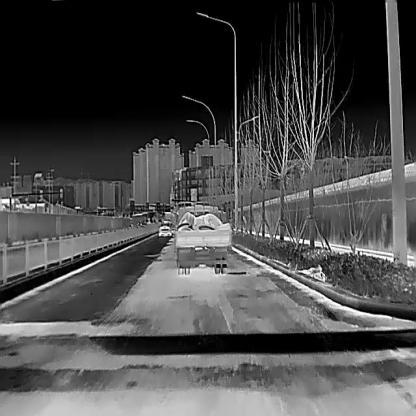car: (176, 199, 231, 275), (158, 222, 172, 236)
